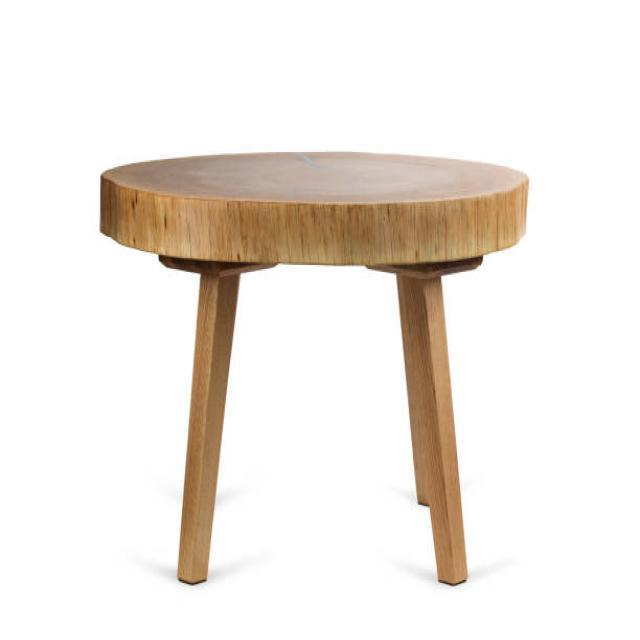table: (98, 149, 529, 587)
